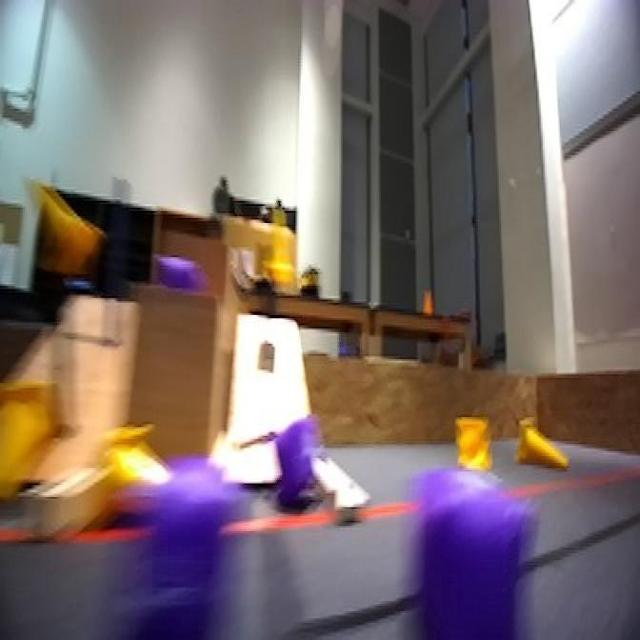frc_cone: (0, 368, 66, 516), (90, 414, 164, 543), (29, 174, 101, 266), (520, 416, 581, 474), (262, 201, 298, 282), (452, 412, 492, 470)
frc_cube: (404, 470, 546, 640), (110, 459, 235, 640), (279, 417, 323, 499), (153, 240, 203, 300)
